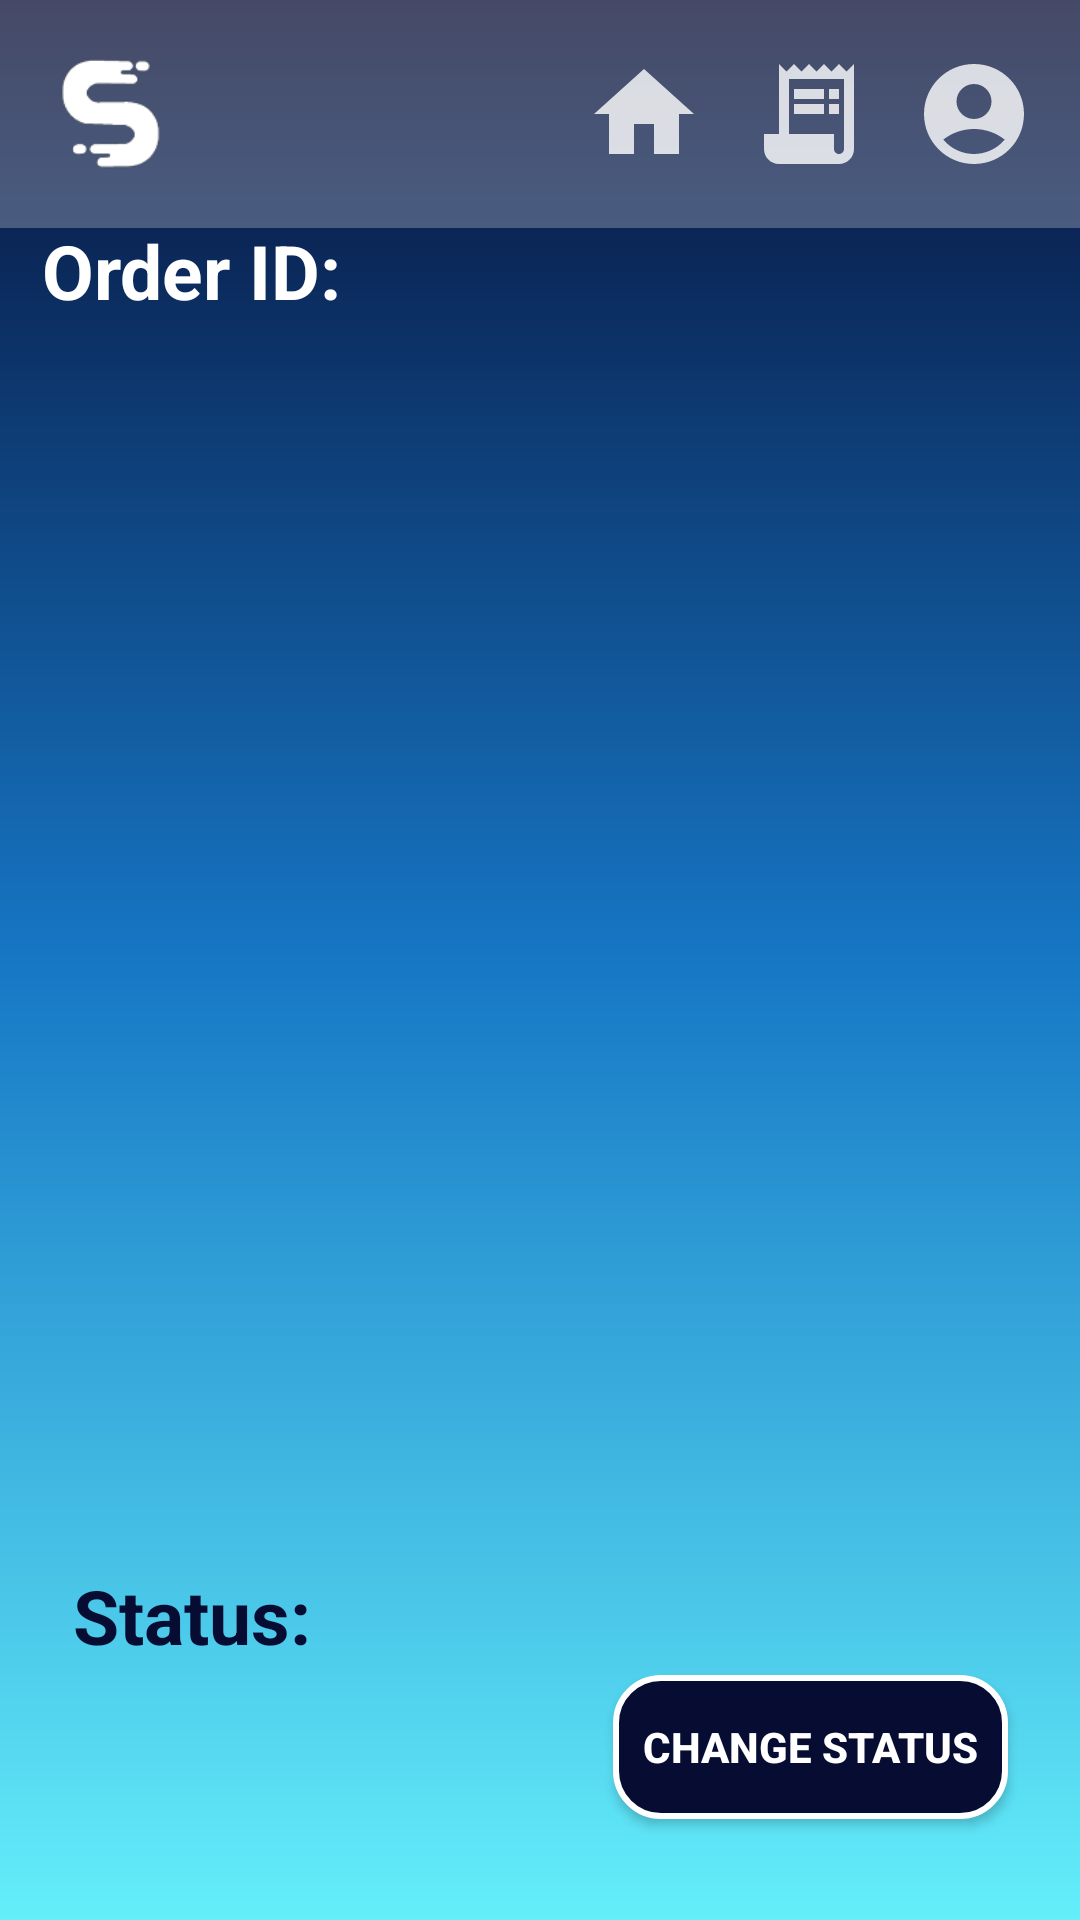

Screen size 1080×1920. Icon name, then its box in pixels as Rect(x1, y1, x2, y2):
Accounts: Rect(924, 64, 1024, 164)
Home: Rect(594, 69, 694, 154)
Orders: Rect(764, 64, 854, 164)
